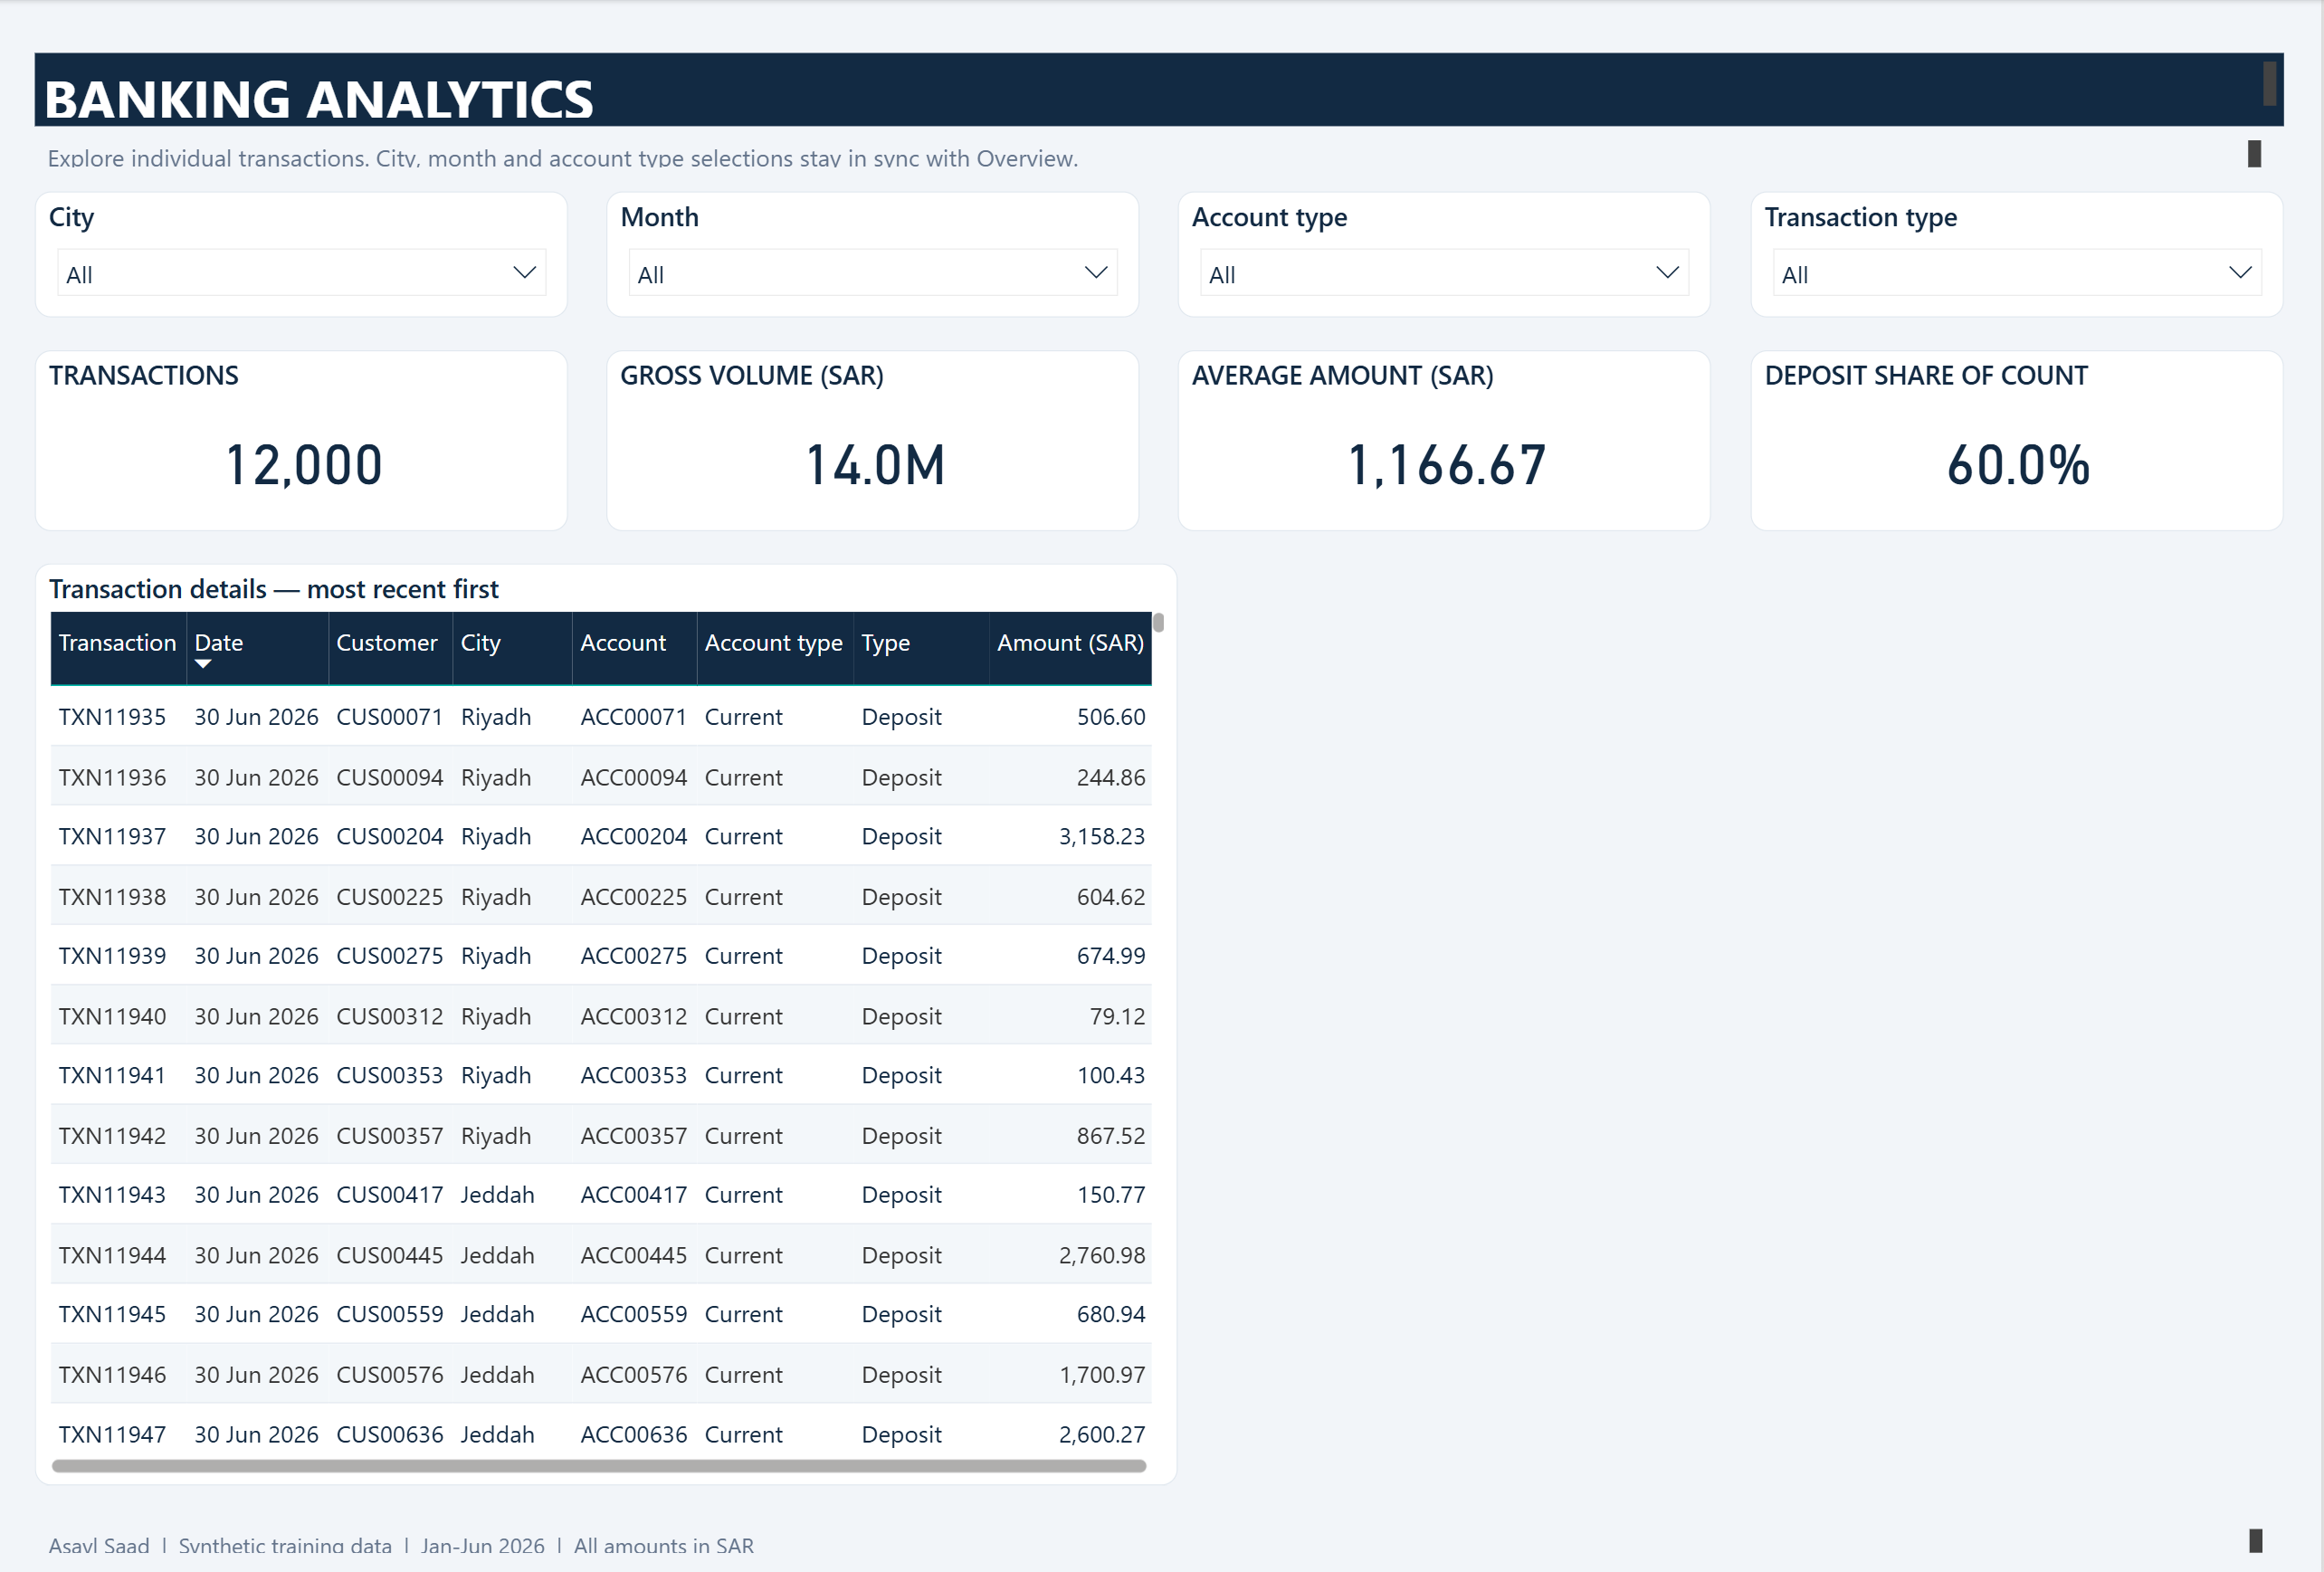

The dashboard page shown, as its layout file describes it:
{"tool":"powerbi","page":{"name":"02  Transactions","canvas":[1440,960],"ordinal":1},"visuals":[{"type":"textbox","box":[24,16,1392,45],"z":16000},{"type":"textbox","box":[27,65,1380,27],"z":17000},{"type":"textbox","box":[28,924,1380,25],"z":18000},{"type":"slicer","title":"City","fields":{"Values":["Customers.City"]},"box":[24,102,330,78],"z":19000},{"type":"slicer","title":"Month","fields":{"Values":["Calendar.YearMonth"]},"box":[378,102,330,78],"z":20000},{"type":"slicer","title":"Account type","fields":{"Values":["Accounts.AccountType"]},"box":[732,102,330,78],"z":21000},{"type":"slicer","title":"Transaction type","fields":{"Values":["Transactions.TransactionType"]},"box":[1086,102,330,78],"z":22000},{"type":"card","title":"TRANSACTIONS","fields":{"Values":["Transactions.Total Transactions"]},"box":[24,200,330,112],"z":23000},{"type":"card","title":"GROSS VOLUME (SAR)","fields":{"Values":["Transactions.Total Amount"]},"box":[378,200,330,112],"z":24000},{"type":"card","title":"AVERAGE AMOUNT (SAR)","fields":{"Values":["Transactions.Average Transaction"]},"box":[732,200,330,112],"z":25000},{"type":"card","title":"DEPOSIT SHARE OF COUNT","fields":{"Values":["Transactions.Deposit Share"]},"box":[1086,200,330,112],"z":26000},{"type":"tableEx","title":"Transaction details — most recent first","fields":{"Values":["Transactions.TransactionID","Transactions.TransactionDate","Customers.CustomerID","Customers.City","Accounts.AccountID","Accounts.AccountType","Transactions.TransactionType","Transactions.Amount"]},"box":[24,332,1392,570],"z":27000}]}

Visuals, with their boxes in screenshot pixels (x1, y1, x2, y2), scaled from the page's 1440x960 canvas onto the 2324x1572 screenshot:
textbox: region(39, 26, 2285, 100)
textbox: region(43, 107, 2271, 150)
textbox: region(45, 1513, 2272, 1554)
"City" slicer: region(39, 167, 571, 295)
"Month" slicer: region(610, 167, 1143, 295)
"Account type" slicer: region(1181, 167, 1714, 295)
"Transaction type" slicer: region(1753, 167, 2285, 295)
"TRANSACTIONS" card: region(39, 328, 571, 511)
"GROSS VOLUME (SAR)" card: region(610, 328, 1143, 511)
"AVERAGE AMOUNT (SAR)" card: region(1181, 328, 1714, 511)
"DEPOSIT SHARE OF COUNT" card: region(1753, 328, 2285, 511)
"Transaction details — most recent first" tableEx: region(39, 544, 2285, 1477)
